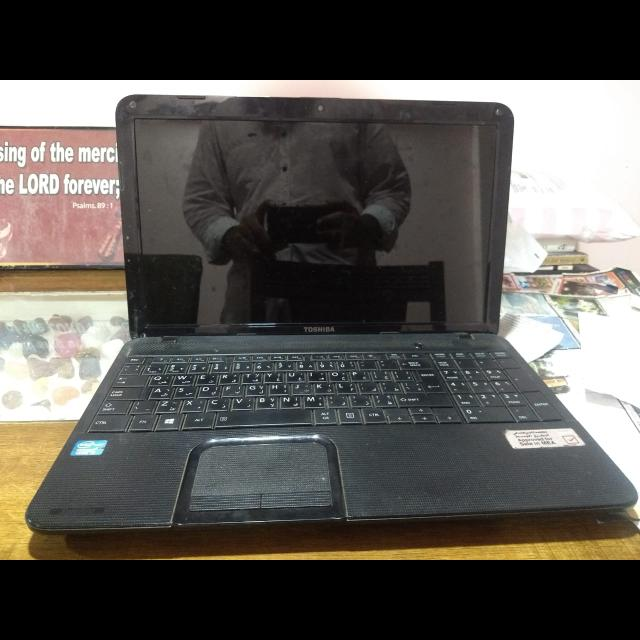Laptop: (22, 90, 640, 542)
